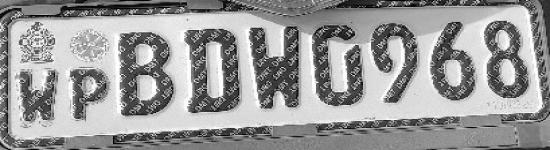0: (308, 23, 367, 109)
6: (426, 16, 476, 100)
8: (478, 17, 534, 102)
9: (370, 19, 424, 106)
B: (111, 28, 174, 118)
D: (178, 25, 243, 116)
P: (65, 63, 110, 123)
W: (245, 22, 304, 109), (20, 66, 58, 127)
